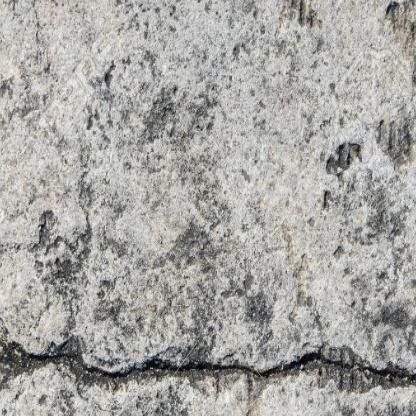Cracks: (0, 300, 416, 400)
